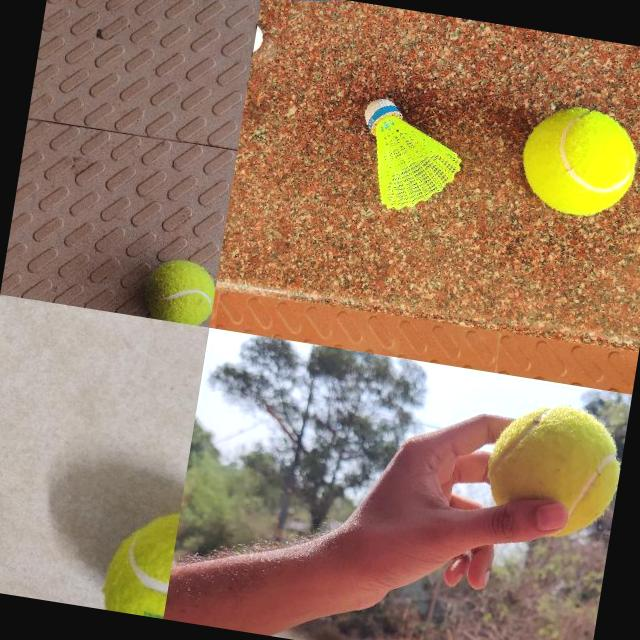Tennis Ball: (479, 395, 629, 547), (515, 99, 640, 223), (98, 500, 180, 618), (142, 255, 220, 327)
